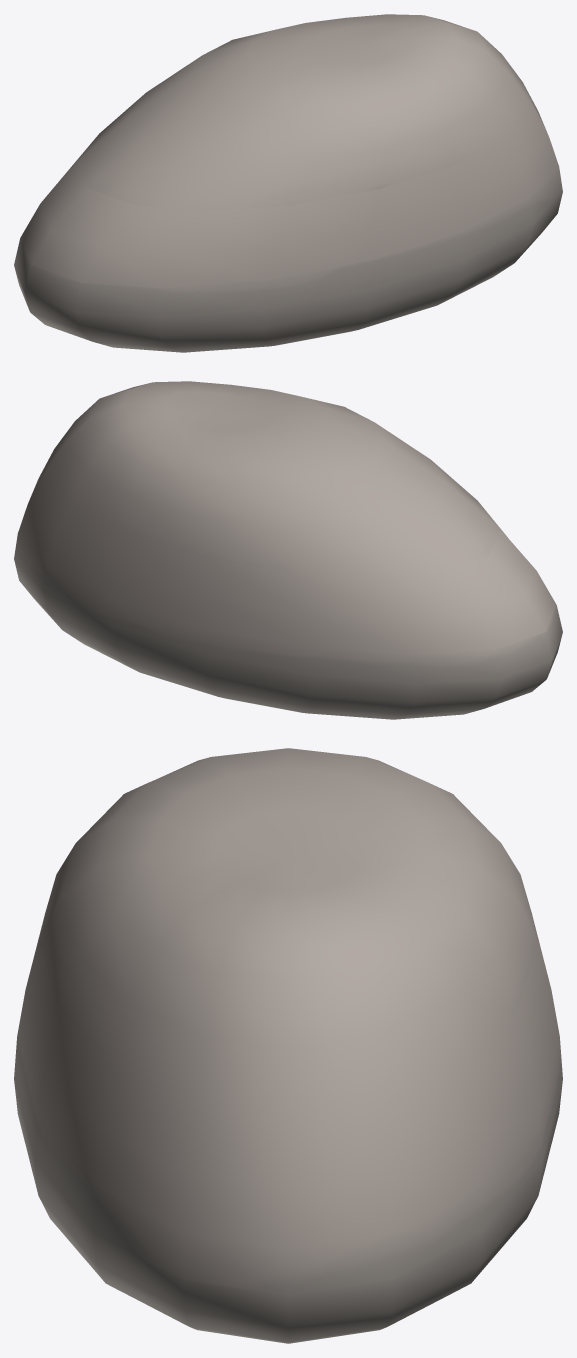
The model's file is batu_2.fbx.
3 renders of one model, top to bottom at view 1: azimuth 30°, elevation 25°; view 2: azimuth 150°, elevation 25°; view 3: azimuth 270°, elevation 25°, orthographic. The views are drawn at different scales.
Parts seen in each view (by area): view 1: batu_2; view 2: batu_2; view 3: batu_2.
Boxes of the visible parts, x1,y1,x2,y2 form: batu_2: (14,14,562,352); batu_2: (14,381,562,719); batu_2: (14,748,562,1343).
Bounding box in the file's own units: 1.77 × 0.7339 × 0.9438.
1 material, 1 textured.
